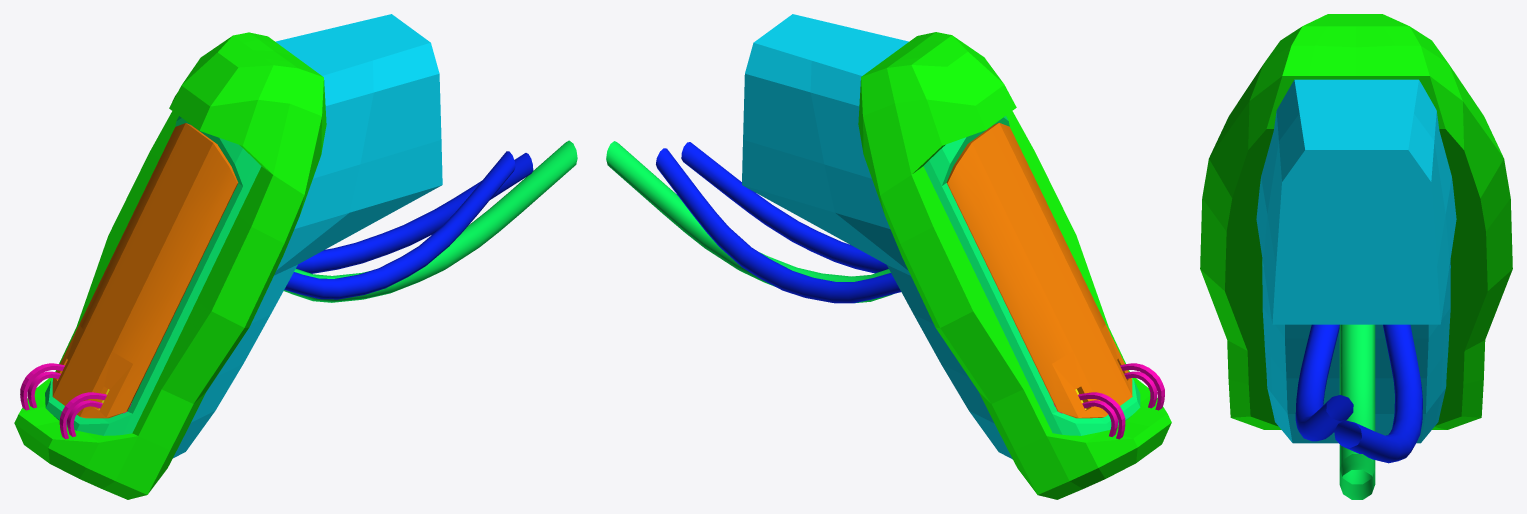
3 views of the same model, side by side, from view 1: azimuth 30°, elevation 25°; view 2: azimuth 150°, elevation 25°; view 3: azimuth 270°, elevation 25° (orthographic). The views are drawn at different scales.
Parts seen in each view (by area): view 1: Body, Back, Protection, BodiInterior, Cable004, Cable1, Cable005, Level; view 2: Body, Back, Protection, BodiInterior, Cable005, Cable004, Cable1, Level; view 3: Back, Body, Cable005, Cable1, Cable004.
Part boxes in pixels (x1=…): Body: x1=14, y1=32, x2=326, y2=499; Back: x1=173, y1=14, x2=442, y2=458; Protection: x1=52, y1=123, x2=238, y2=418; BodiInterior: x1=45, y1=116, x2=261, y2=435; Cable004: x1=284, y1=151, x2=515, y2=299; Cable1: x1=284, y1=140, x2=577, y2=302; Cable005: x1=296, y1=153, x2=533, y2=273; Level: x1=20, y1=363, x2=131, y2=439; Body: x1=858, y1=32, x2=1171, y2=499; Back: x1=742, y1=14, x2=1012, y2=459; Protection: x1=946, y1=123, x2=1132, y2=418; BodiInterior: x1=923, y1=116, x2=1140, y2=435; Cable005: x1=656, y1=148, x2=900, y2=303; Cable004: x1=681, y1=142, x2=888, y2=273; Cable1: x1=606, y1=141, x2=893, y2=303; Level: x1=1053, y1=363, x2=1164, y2=439; Back: x1=1256, y1=79, x2=1456, y2=443; Body: x1=1200, y1=14, x2=1512, y2=429; Cable005: x1=1334, y1=324, x2=1422, y2=463; Cable1: x1=1339, y1=324, x2=1375, y2=499; Cable004: x1=1295, y1=324, x2=1353, y2=441.
Size of the model in its own units: 94.81 by 64.48 by 36.06.
